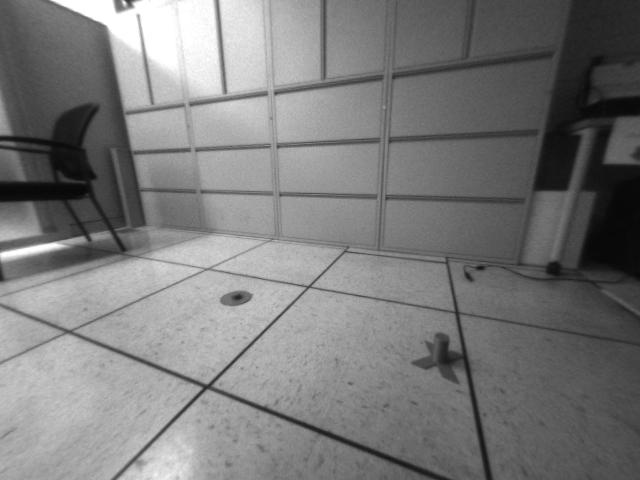X: (410, 330, 468, 384)
